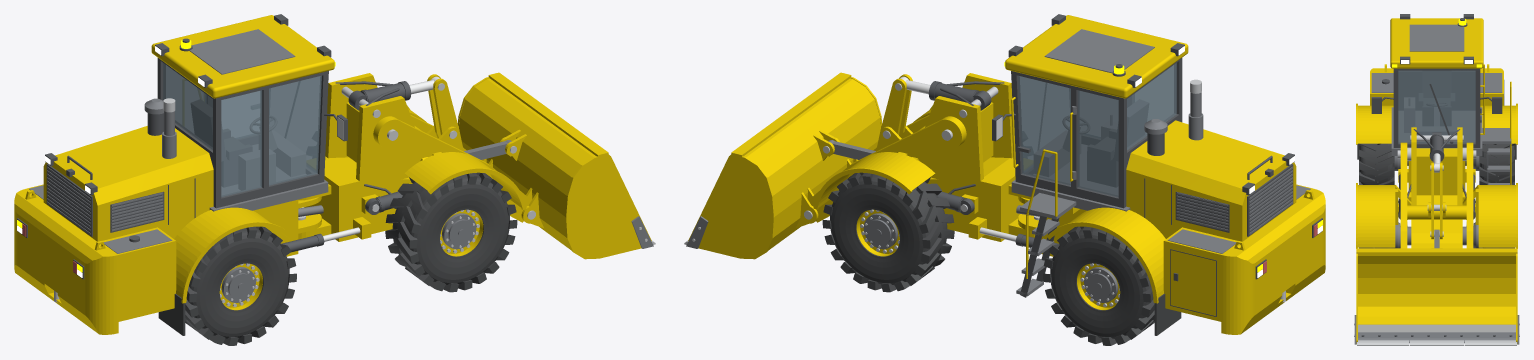
File: Wheel_Loader_3yd.glb
The picture shows the model from 3 angles, left to right: view 1: azimuth 30°, elevation 25°; view 2: azimuth 150°, elevation 25°; view 3: azimuth 270°, elevation 25°; orthographic projection. The views are drawn at different scales.
Parts seen in each view (by area): view 1: bucket, cab_glass, hood, tyre_front_R, front_frame, counterweight, tyre_rear_R, cab_roof, cab_frame, rear_pods, rear_fender_2, roof_panel (+20 smaller); view 2: bucket, cab_glass, hood, tyre_front_L, front_frame, counterweight, tyre_rear_L, cab_roof, cab_frame, rear_pods, rear_fender, roof_panel (+24 smaller); view 3: bucket, cab_glass, front_frame, cab_roof, cab_frame, front_fender, front_fender_2, roof_panel, seat, tyre_rear_R, bucket_floor_wear, base_edge (+28 smaller).
Boxes of the visible parts, <box> form: bucket: <box>457,72,651,259</box>; cab_glass: <box>163,63,321,196</box>; hood: <box>43,126,213,241</box>; tyre_front_R: <box>385,172,517,292</box>; front_frame: <box>304,73,414,241</box>; counterweight: <box>14,188,118,334</box>; tyre_rear_R: <box>185,226,296,345</box>; cab_roof: <box>151,15,334,98</box>; cab_frame: <box>157,58,328,208</box>; rear_pods: <box>25,184,176,322</box>; rear_fender_2: <box>174,207,293,303</box>; roof_panel: <box>189,29,295,74</box>; bucket: <box>688,72,882,259</box>; cab_glass: <box>1018,63,1176,196</box>; hood: <box>1126,120,1296,241</box>; tyre_front_L: <box>822,172,954,292</box>; front_frame: <box>925,73,1023,241</box>; counterweight: <box>1221,188,1325,334</box>; tyre_rear_L: <box>1043,226,1154,345</box>; cab_roof: <box>1005,15,1188,98</box>; cab_frame: <box>1011,58,1182,208</box>; rear_pods: <box>1163,184,1313,322</box>; rear_fender: <box>1046,207,1165,303</box>; roof_panel: <box>1044,29,1154,73</box>; bucket: <box>1356,248,1517,343</box>; cab_glass: <box>1398,70,1475,143</box>; front_frame: <box>1398,127,1475,248</box>; cab_roof: <box>1390,18,1483,68</box>; cab_frame: <box>1393,68,1480,147</box>; front_fender: <box>1462,183,1517,248</box>; front_fender_2: <box>1356,183,1411,248</box>; roof_panel: <box>1409,24,1464,51</box>; seat: <box>1419,71,1454,125</box>; tyre_rear_R: <box>1359,143,1394,184</box>; bucket_floor_wear: <box>1358,324,1515,332</box>; base_edge: <box>1358,332,1515,343</box>.
Size of the model in its own units: 8.27 by 3.57 by 2.92.
